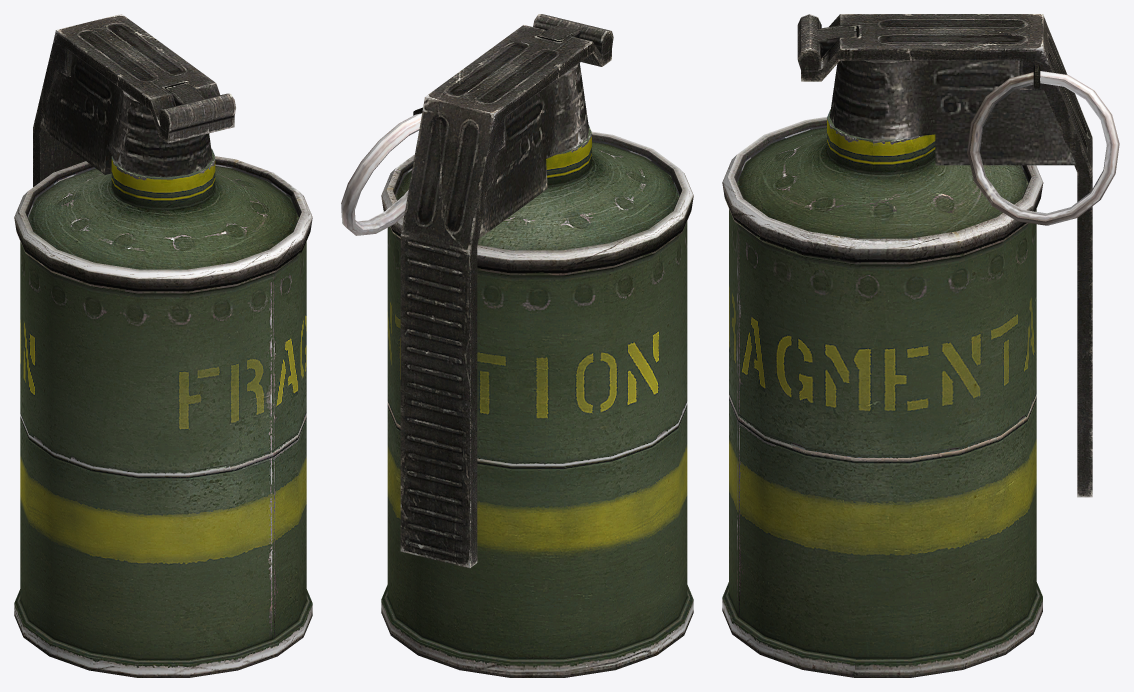
Rendered from grenade.dae.
3 views of the same model, side by side, from view 1: azimuth 30°, elevation 25°; view 2: azimuth 150°, elevation 25°; view 3: azimuth 270°, elevation 25° (orthographic). The views are drawn at different scales.
Visible parts, largest first — view 1: Grenade; view 2: Grenade; view 3: Grenade.
Part boxes in pixels (left/top/right/bottom): Grenade: left=14, top=14, right=312, bottom=677; Grenade: left=341, top=14, right=693, bottom=677; Grenade: left=722, top=14, right=1119, bottom=677.
Size of the model in its own units: 0.0631 by 0.1276 by 0.0793.
